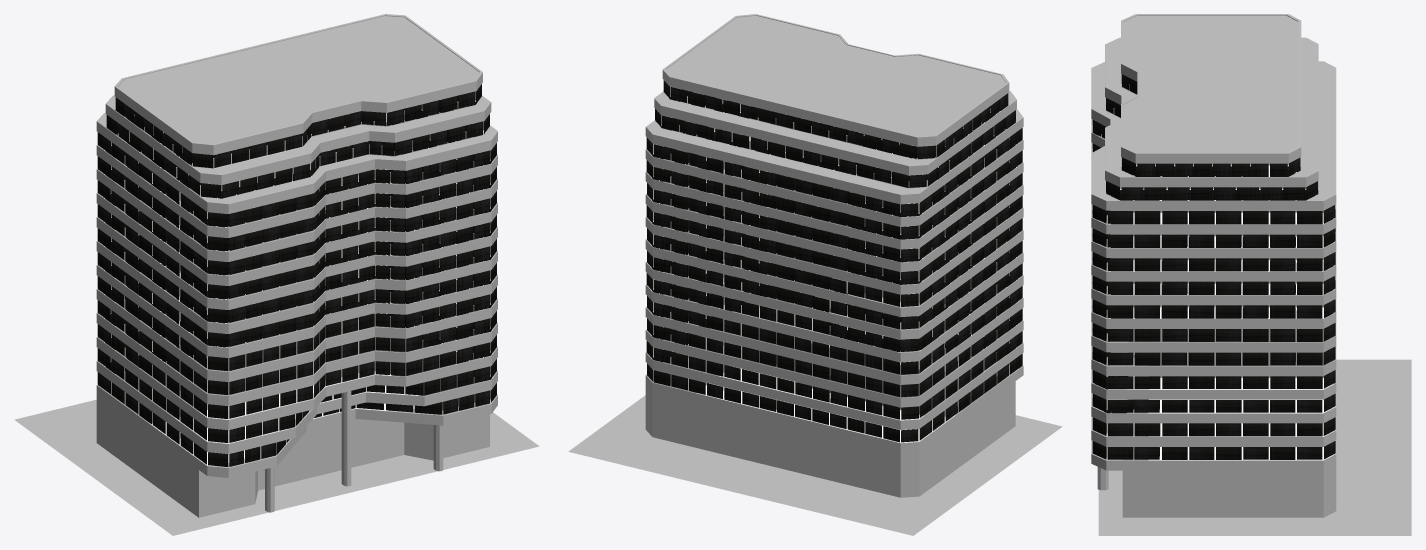
3 views of the same model, side by side, from view 1: azimuth 30°, elevation 25°; view 2: azimuth 150°, elevation 25°; view 3: azimuth 270°, elevation 25° (orthographic). The views are drawn at different scales.
Parts seen in each view (by area): view 1: BC-009; view 2: BC-009; view 3: BC-009.
Boxes of the visible parts, bbox=[...] form: BC-009: bbox=[14, 14, 539, 535]; BC-009: bbox=[568, 14, 1062, 535]; BC-009: bbox=[1091, 14, 1411, 535].
Size of what is drawn, in the model's own units: 48 by 46.25 by 36.85.
